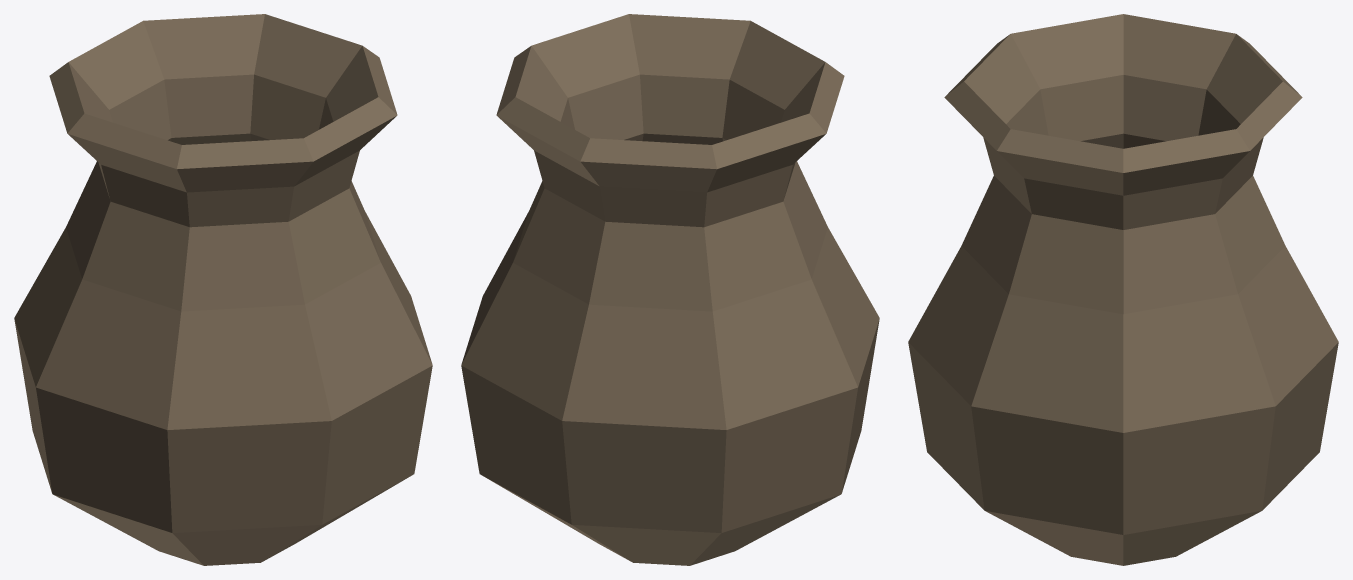
File: Vase.glb
The picture shows the model from 3 angles, left to right: view 1: azimuth 30°, elevation 25°; view 2: azimuth 150°, elevation 25°; view 3: azimuth 270°, elevation 25°; orthographic projection.
Visible parts, largest first — view 1: Vase; view 2: Vase; view 3: Vase.
Boxes of the visible parts, x1,y1,x2,y2 form: Vase: [14, 14, 432, 565]; Vase: [461, 14, 879, 565]; Vase: [908, 14, 1338, 565].
Bounding box in the file's own units: 0.311 × 0.361 × 0.311.
